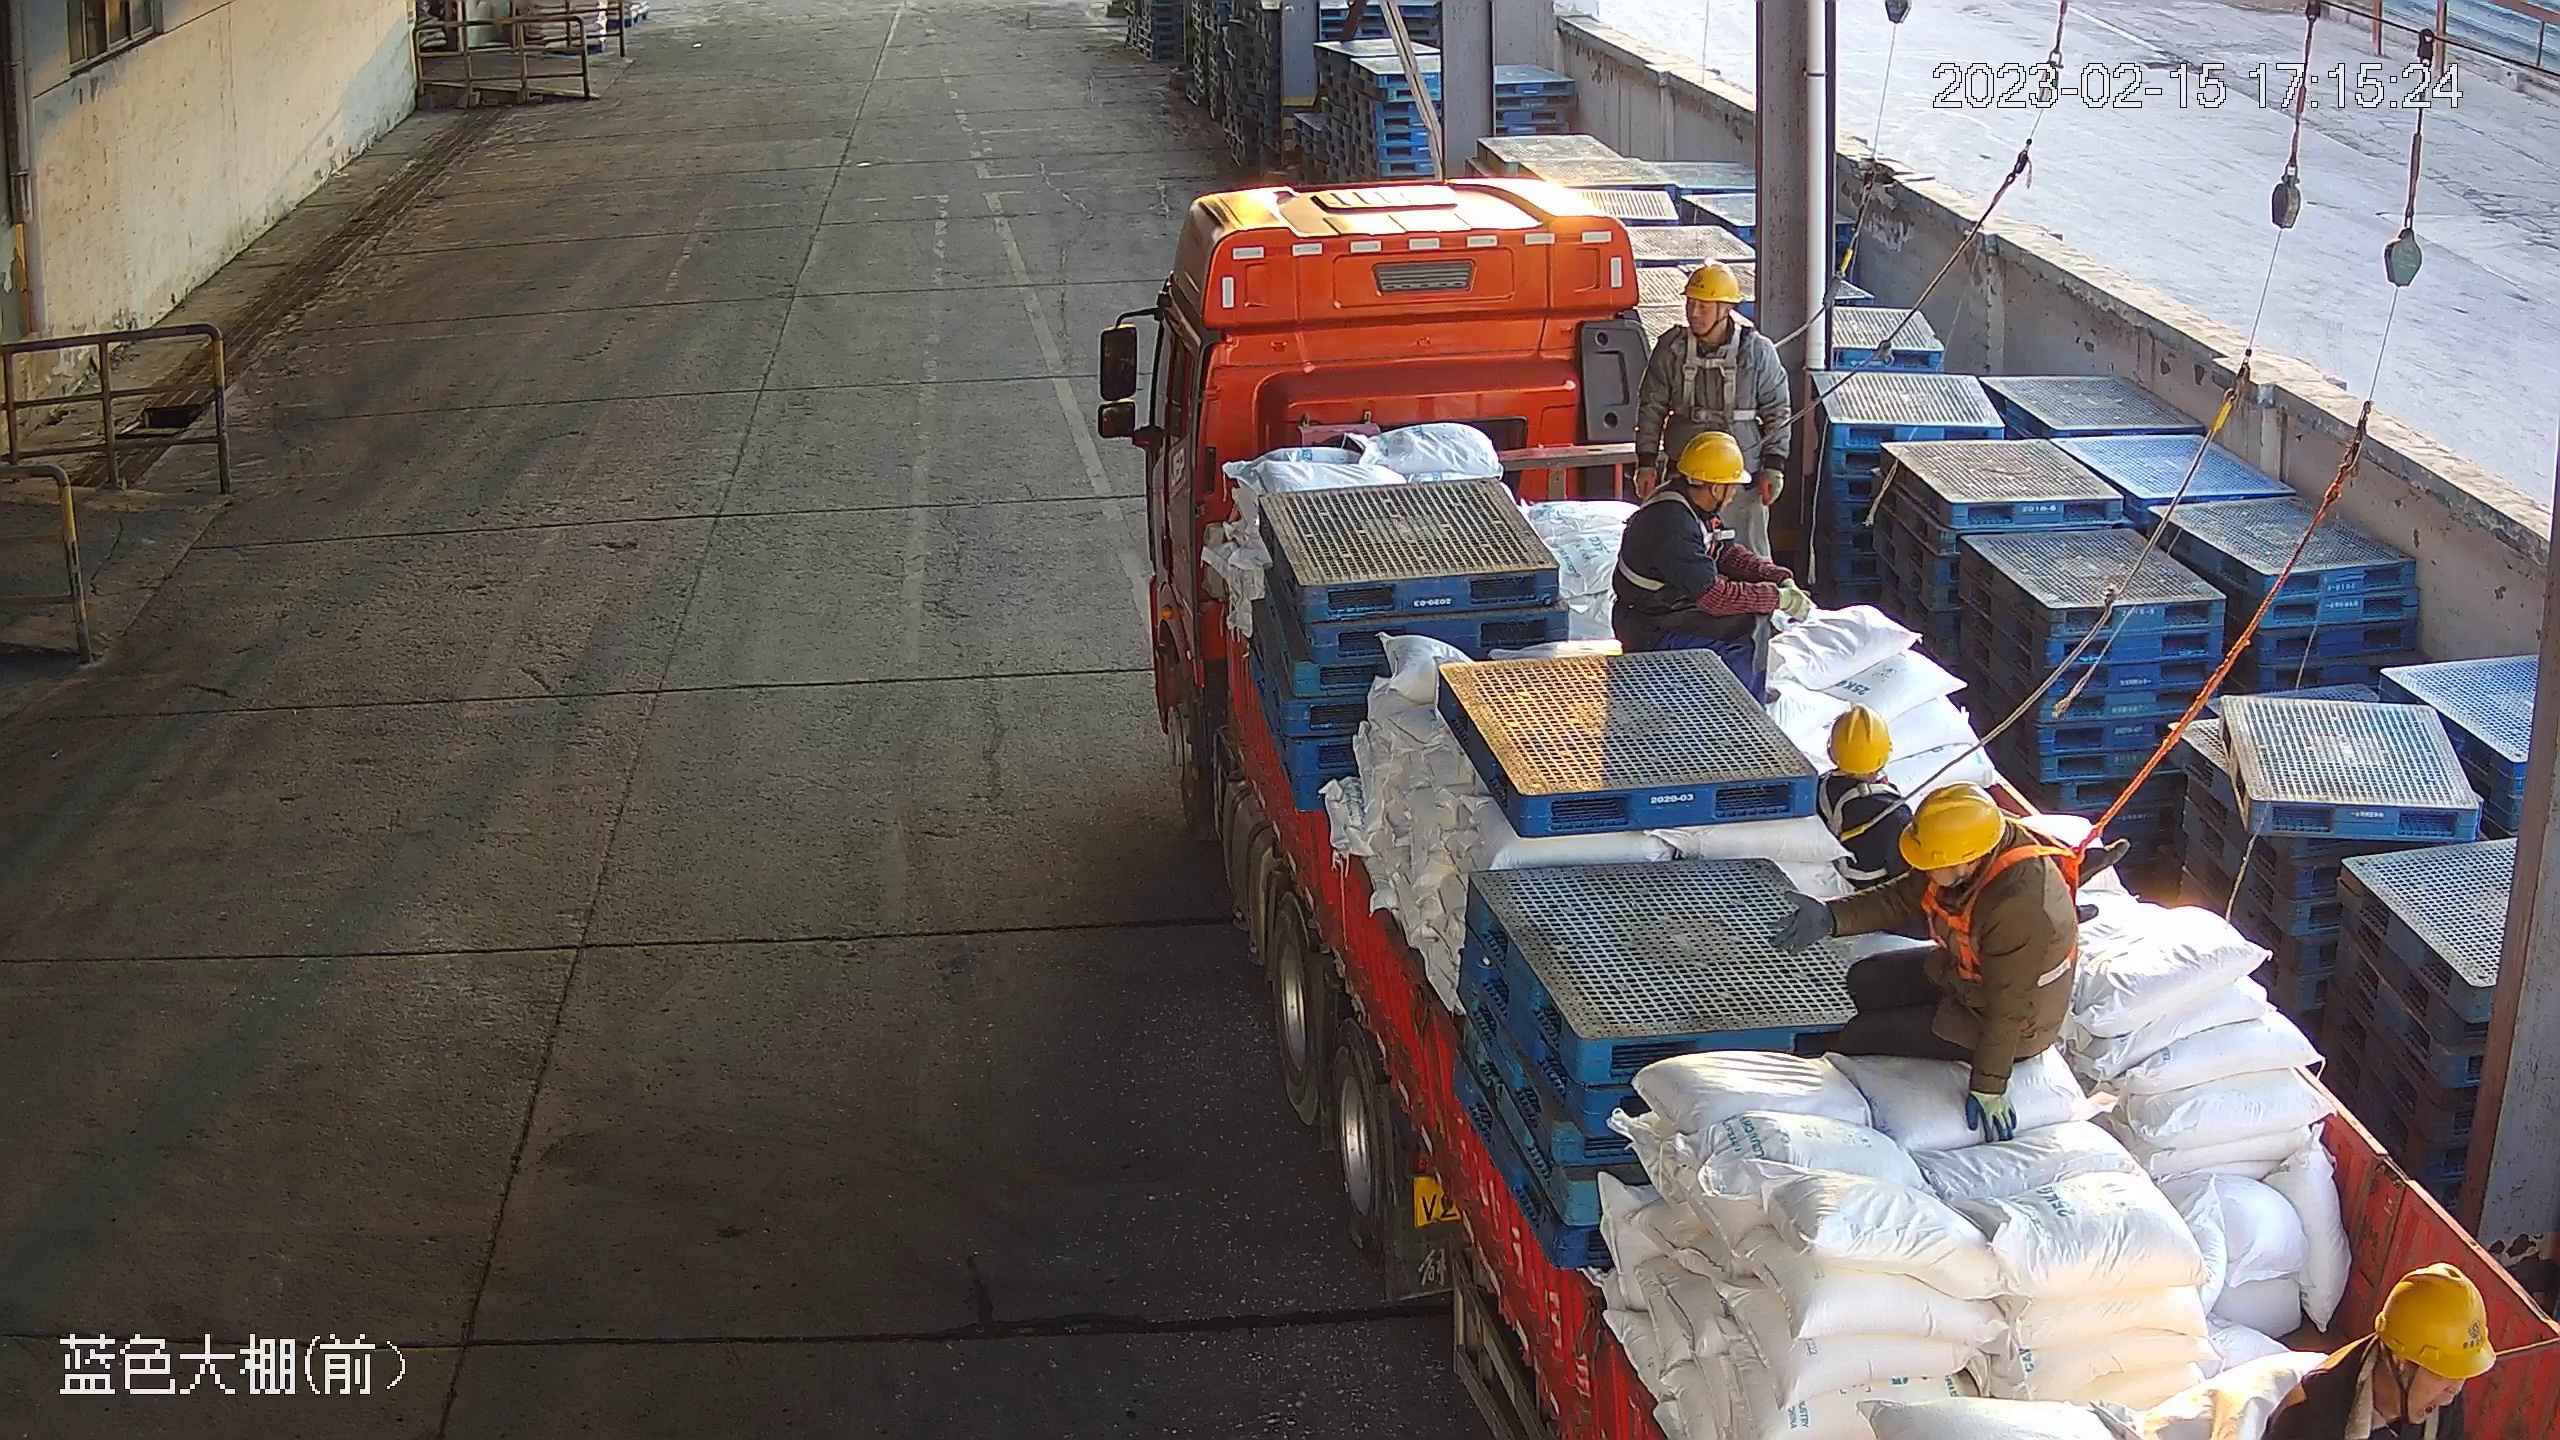belt: (1921, 821, 2092, 988), (1618, 481, 1734, 591), (1816, 769, 1897, 883), (1670, 325, 1756, 425)
head: (1897, 781, 2066, 924), (1650, 266, 1778, 377), (1628, 432, 1753, 531), (1819, 706, 1912, 834)
helmet: (2377, 1262, 2494, 1381), (1899, 782, 2006, 870), (1825, 705, 1891, 774), (1675, 430, 1753, 483), (1680, 262, 1745, 301)
people: (1769, 779, 2080, 1143), (1819, 705, 2132, 922), (1609, 431, 1810, 714), (1633, 266, 1791, 565)
truck: (1097, 180, 2560, 1440)
